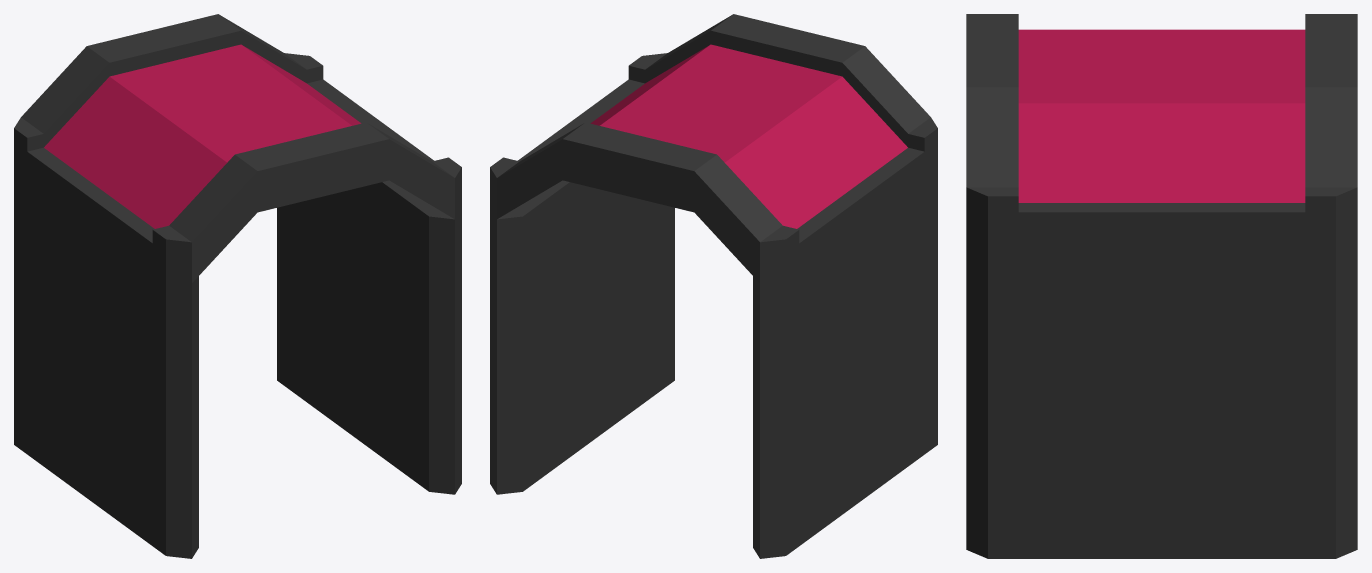
The model's file is road_tunnel_simple.fbx.
The picture shows the model from 3 angles, left to right: view 1: azimuth 30°, elevation 25°; view 2: azimuth 150°, elevation 25°; view 3: azimuth 270°, elevation 25°; orthographic projection. The views are drawn at different scales.
Parts seen in each view (by area): view 1: roof_window_0, wall_straight_2, wall_straight_1; view 2: roof_window_0, wall_straight_2, wall_straight_1; view 3: wall_straight_1, roof_window_0.
Boxes of the visible parts, left/top/right/bottom form: roof_window_0: left=14, top=14, right=461, bottom=283; wall_straight_2: left=14, top=170, right=198, bottom=558; wall_straight_1: left=277, top=180, right=461, bottom=494; roof_window_0: left=490, top=14, right=937, bottom=283; wall_straight_2: left=753, top=170, right=937, bottom=558; wall_straight_1: left=490, top=180, right=674, bottom=494; wall_straight_1: left=966, top=234, right=1357, bottom=558; roof_window_0: left=966, top=14, right=1357, bottom=243.
Size of the model in its own units: 11.25 by 13.5 by 11.25.
